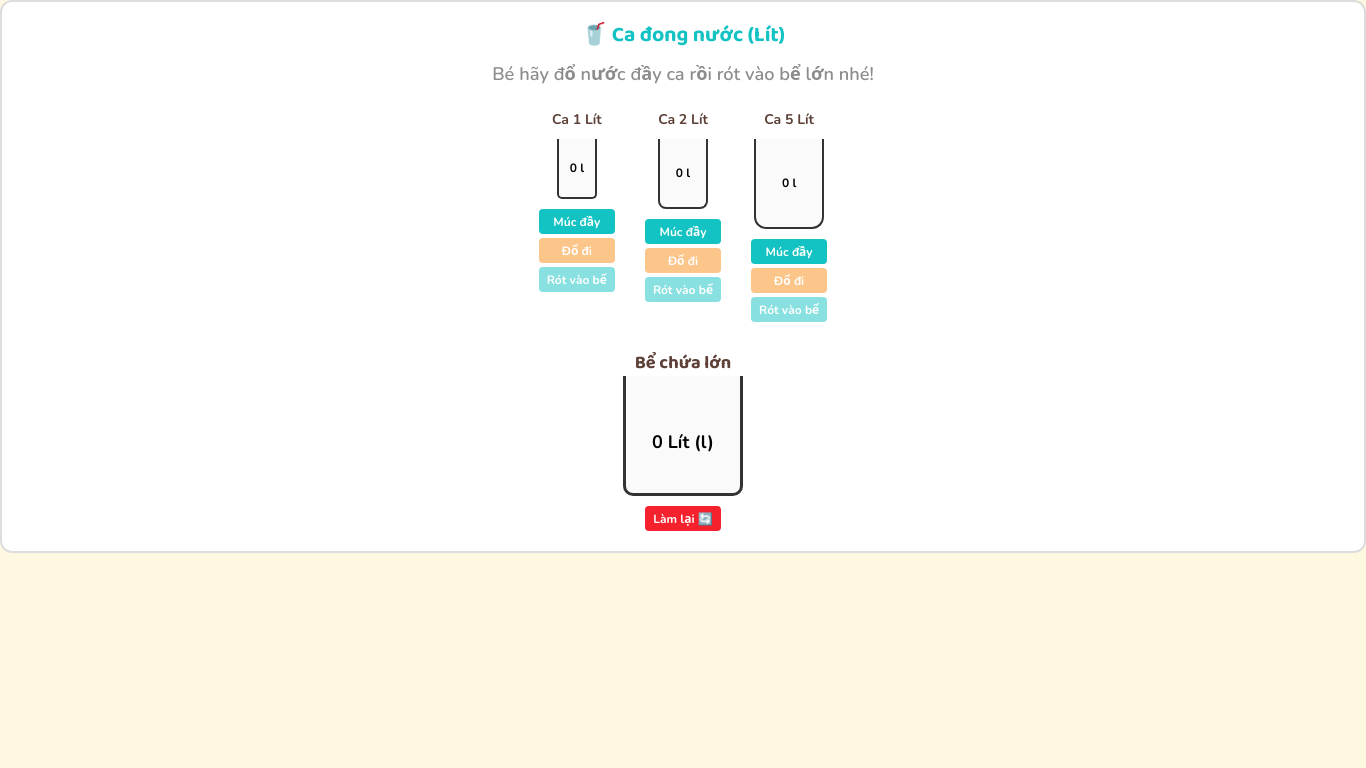
Scenario: LitreCup visualizer › interacts with empty cup buttons and displays capacity overlays
The width and height of the screenshot is (1366, 768).
Expected: the text with test id "overlay-1l" reads "0 l", [570, 160, 584, 176]
Expected: the text with test id "overlay-2l" reads "0 l", [676, 165, 690, 181]
Fill 2L cup and verify overlay
Click the button with test id "fill-2l".
click(683, 232)  # box [645, 219, 721, 244]
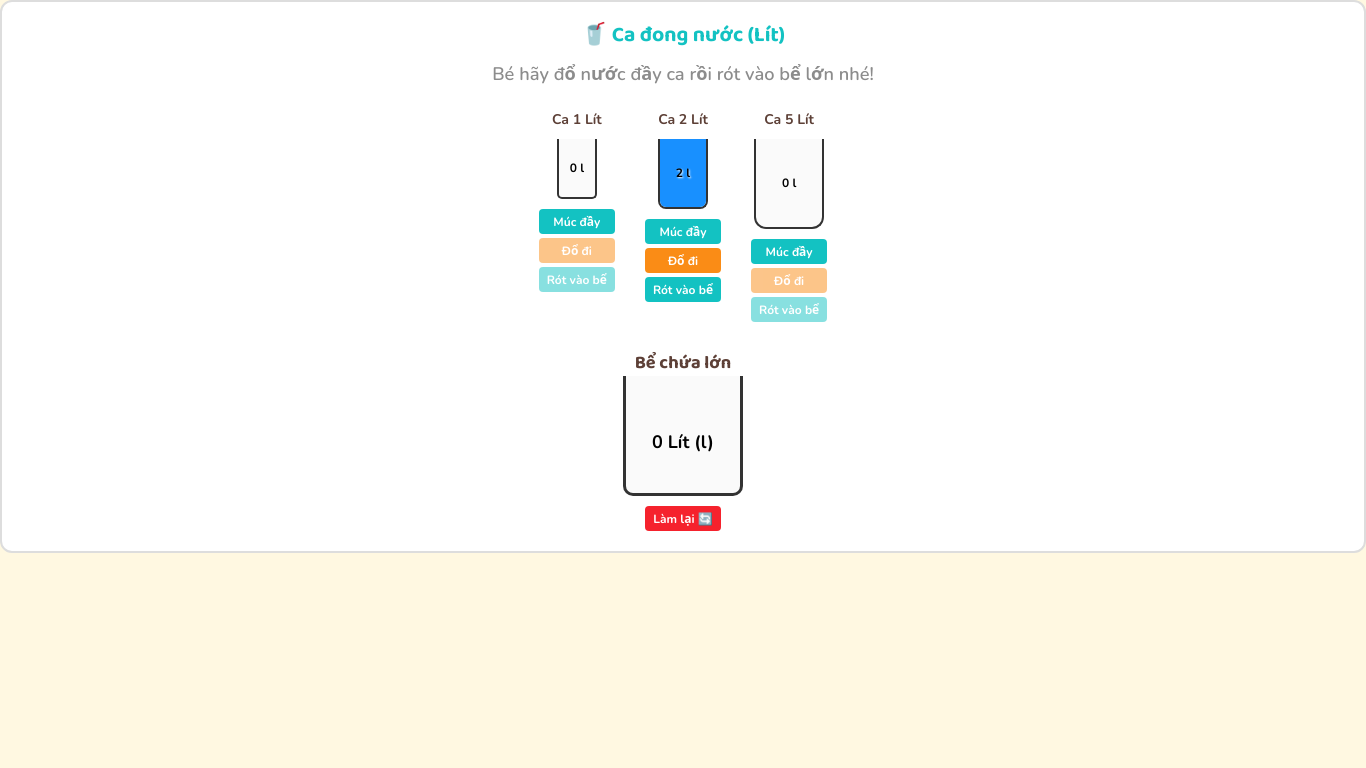
Result: the text with test id "overlay-2l" reads "2 l" at [676, 165, 690, 181]
Empty 2L cup and verify overlay
Click the button with test id "empty-2l".
click(683, 261)  # box [645, 248, 721, 273]
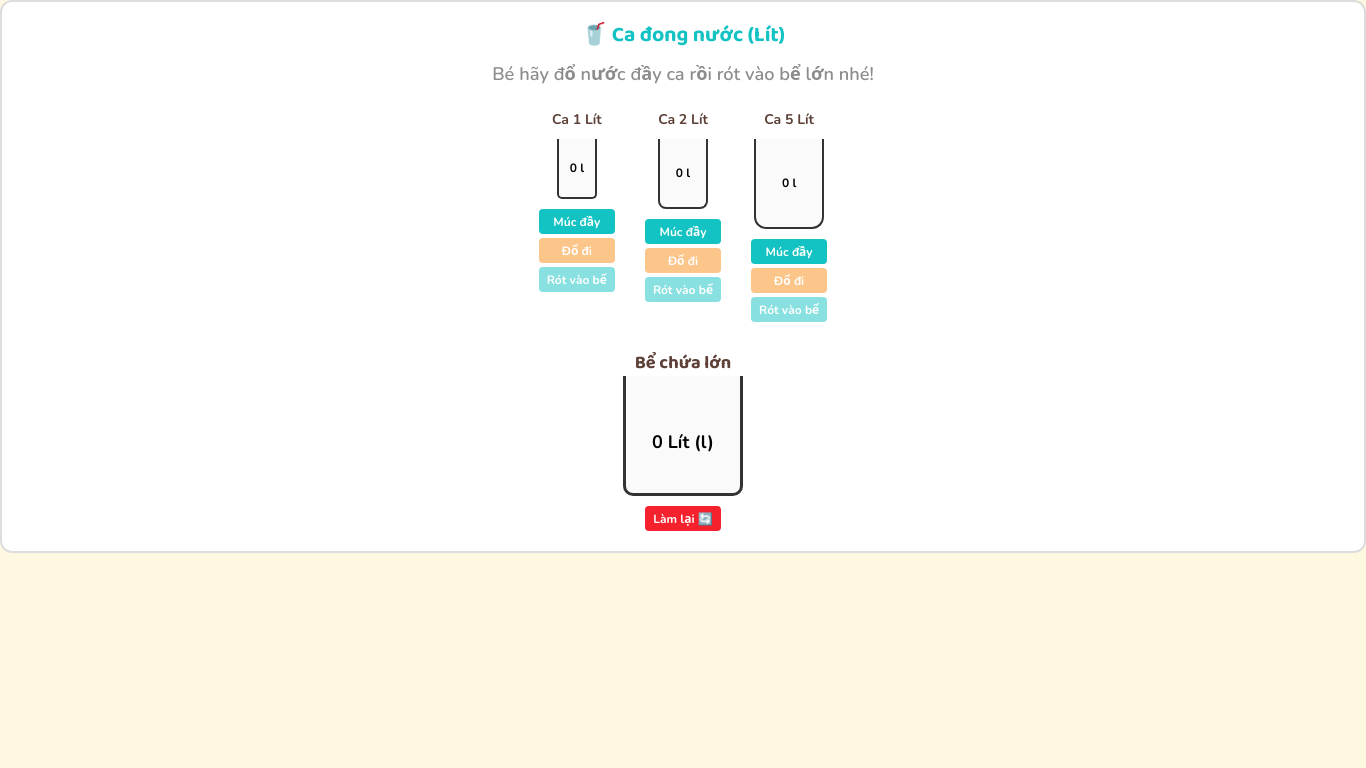
Result: the text with test id "overlay-2l" reads "0 l" at [676, 165, 690, 181]
Fill 5L cup and verify overlay
Click the button with test id "fill-5l".
click(789, 252)  # box [751, 239, 827, 264]
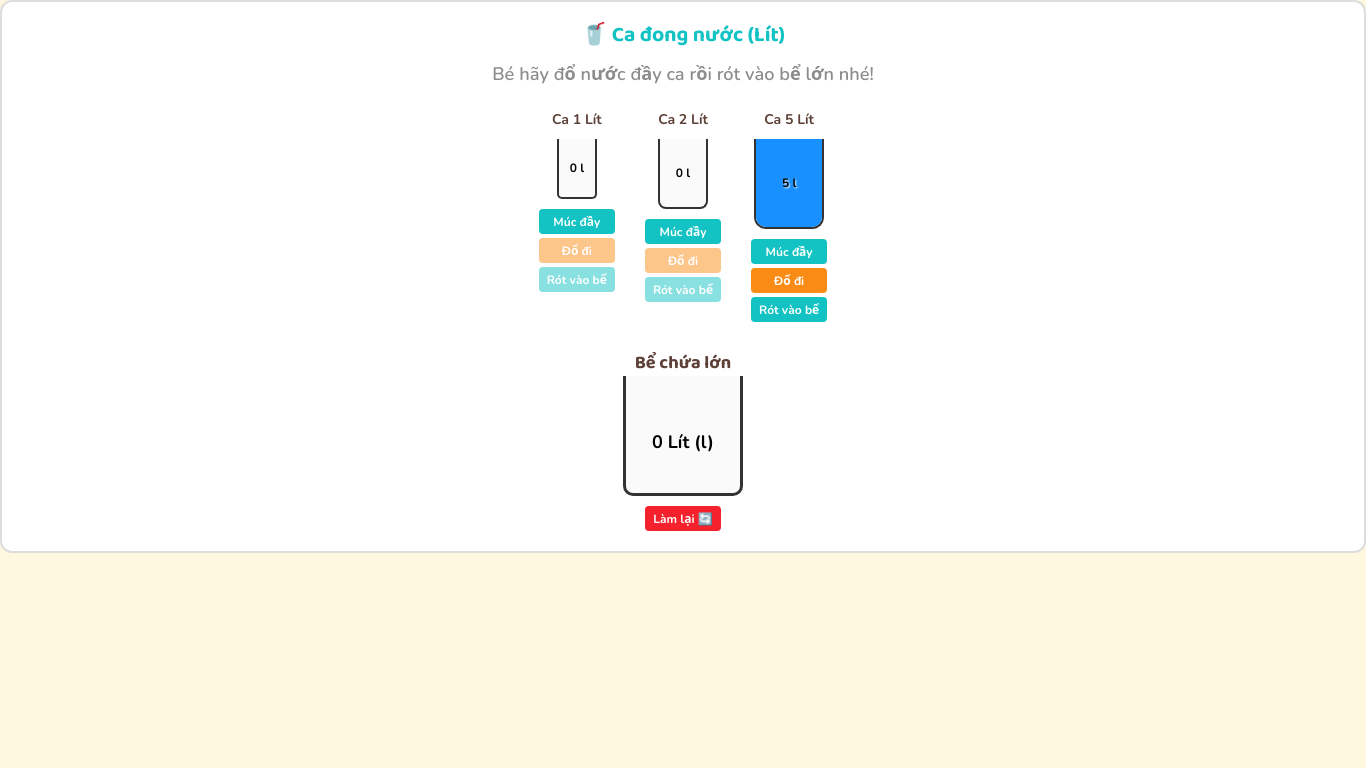
Result: the text with test id "overlay-5l" reads "5 l" at [782, 175, 796, 191]
Empty 5L cup and verify overlay
Click the button with test id "empty-5l".
click(789, 281)  # box [751, 268, 827, 293]
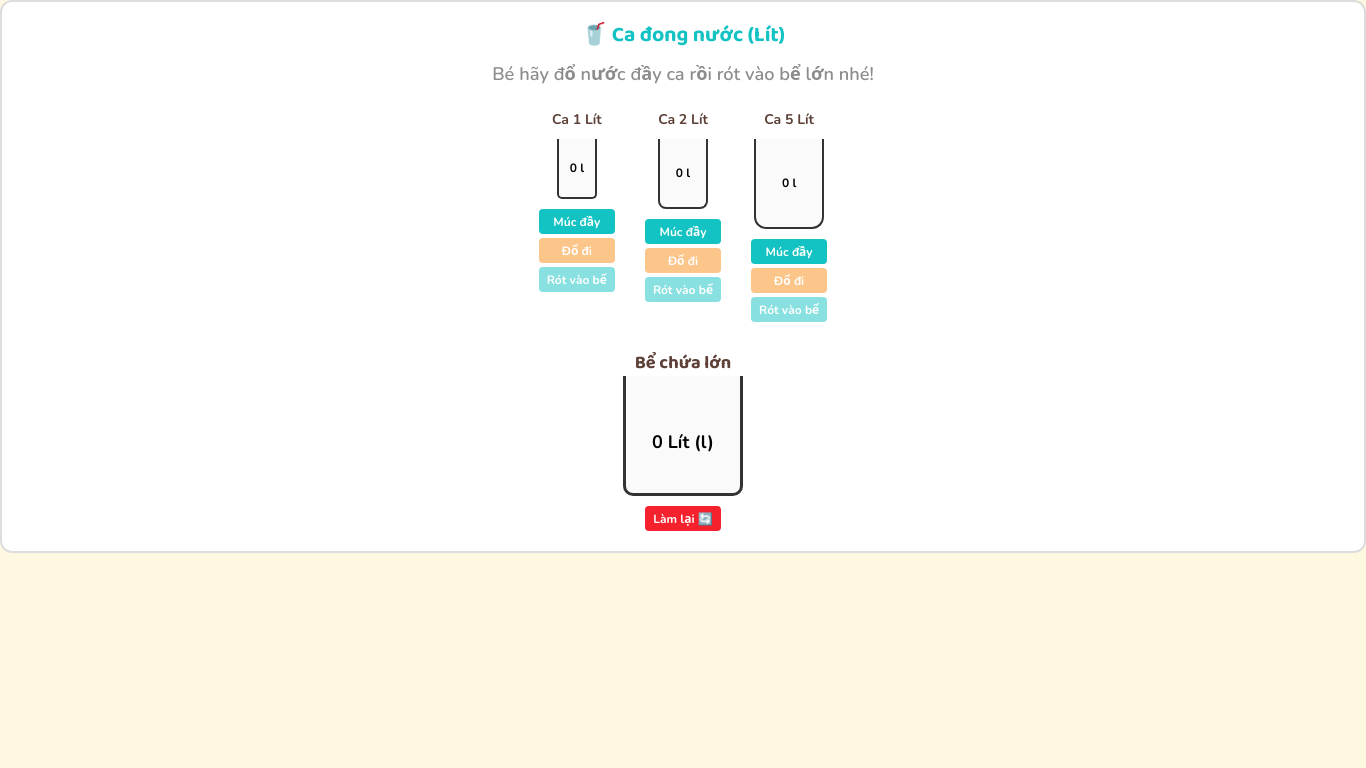
Result: the text with test id "overlay-5l" reads "0 l" at [782, 175, 796, 191]
